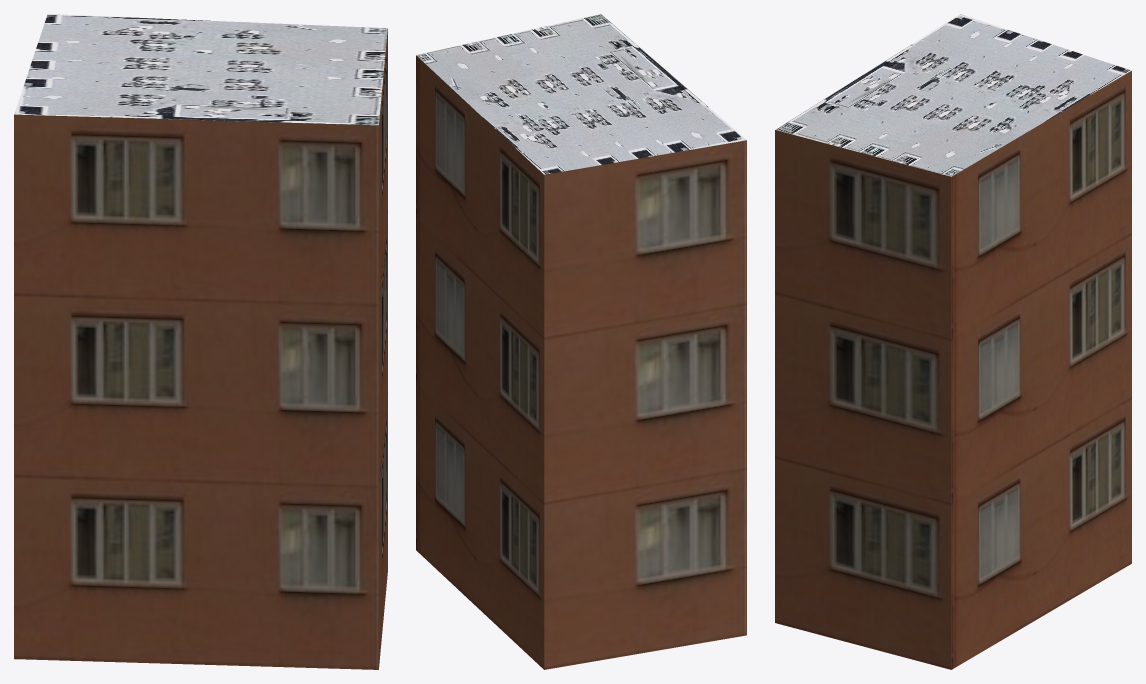
The model's file is ResTex__4624.fbx.
The picture shows the model from 3 angles, left to right: view 1: azimuth 30°, elevation 25°; view 2: azimuth 150°, elevation 25°; view 3: azimuth 270°, elevation 25°; orthographic projection. The views are drawn at different scales.
Visible parts, largest first — view 1: CityEngineMaterial_20_m, CityEngineMaterial_8_m; view 2: CityEngineMaterial_20_m, CityEngineMaterial_8_m; view 3: CityEngineMaterial_20_m, CityEngineMaterial_8_m.
Boxes of the visible parts, bbox=[...] form: CityEngineMaterial_20_m: bbox=[14, 28, 387, 669]; CityEngineMaterial_8_m: bbox=[14, 14, 387, 125]; CityEngineMaterial_20_m: bbox=[416, 55, 746, 669]; CityEngineMaterial_8_m: bbox=[416, 14, 746, 174]; CityEngineMaterial_20_m: bbox=[775, 71, 1131, 669]; CityEngineMaterial_8_m: bbox=[775, 14, 1131, 176].
Bounding box in the file's own units: 6.38 × 9 × 5.9.
2 materials, 2 textured.
